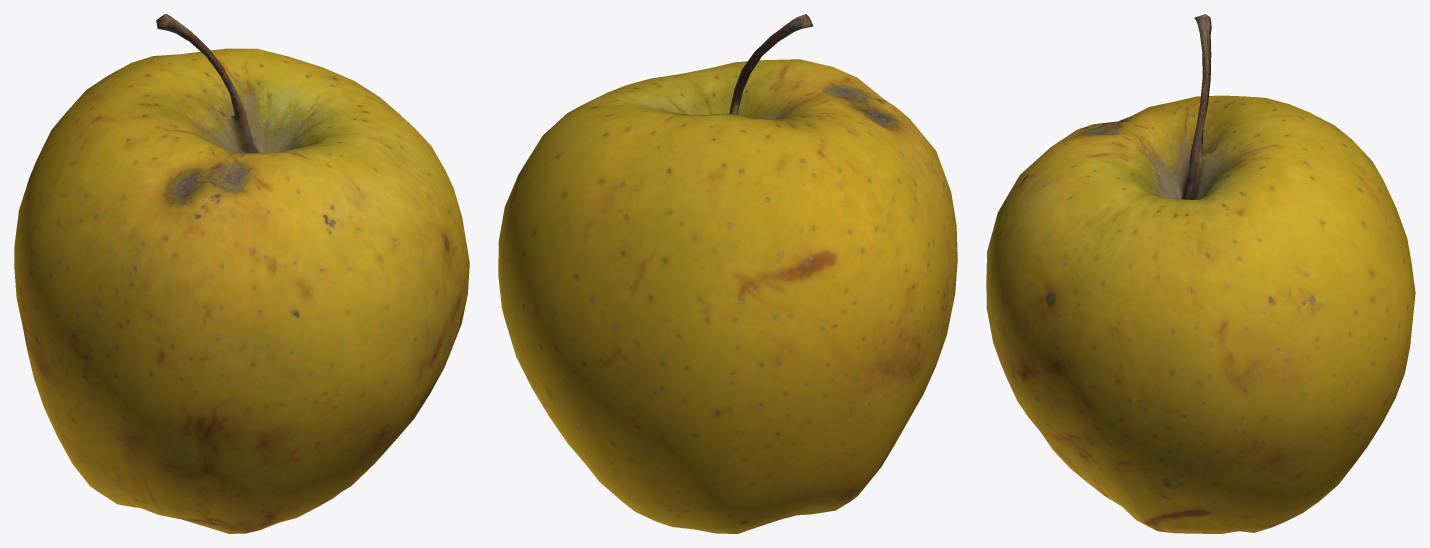
File: apple.obj
3 views of the same model, side by side, from view 1: azimuth 30°, elevation 25°; view 2: azimuth 150°, elevation 25°; view 3: azimuth 270°, elevation 25° (orthographic). The views are drawn at different scales.
Parts seen in each view (by area): view 1: node_id28_mesh_id29; view 2: node_id28_mesh_id29; view 3: node_id28_mesh_id29.
Part boxes in pixels (x1=…): node_id28_mesh_id29: x1=14, y1=14, x2=469, y2=533; node_id28_mesh_id29: x1=498, y1=14, x2=957, y2=533; node_id28_mesh_id29: x1=986, y1=14, x2=1415, y2=533.
Size of the model in its own units: 0.0821 by 0.0988 by 0.0834.
